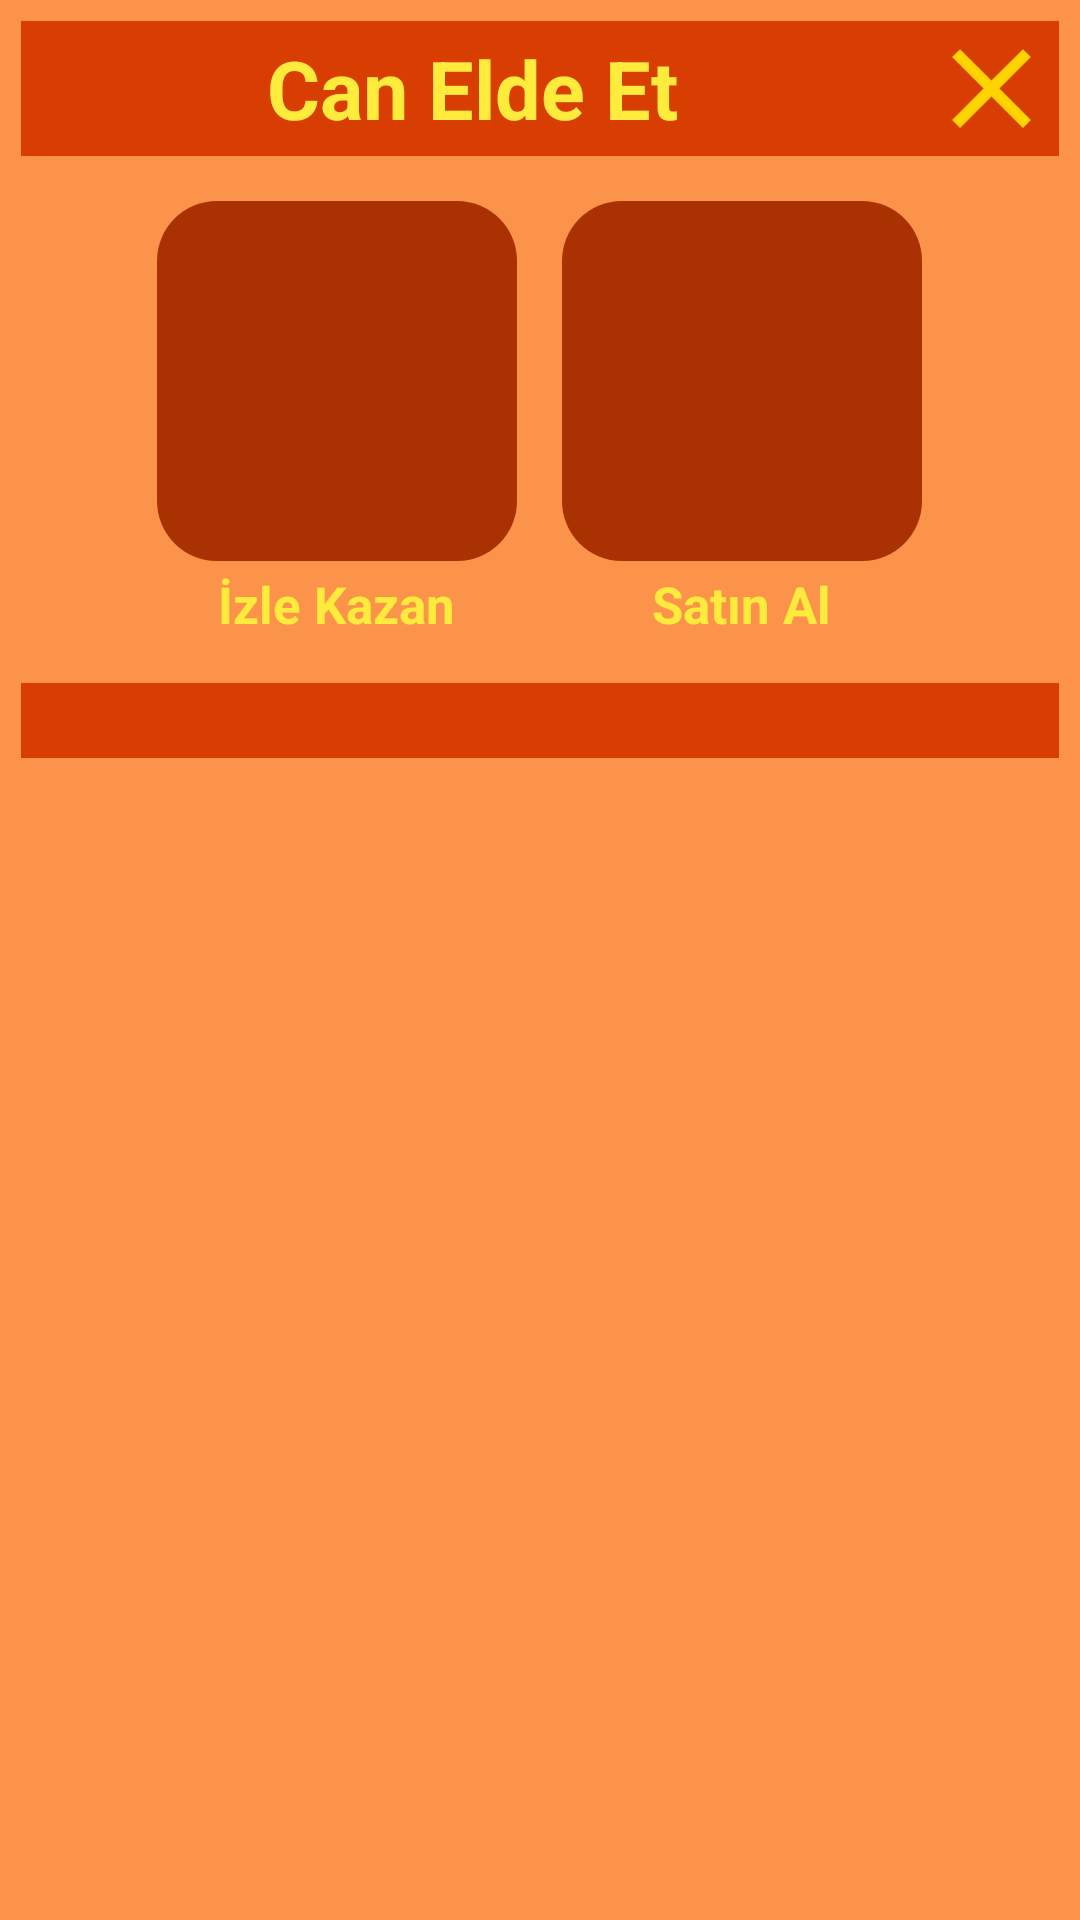

Point at icon controls on the screen. Image size 1080 x 1920, points as [x,y].
close: [991,88]
